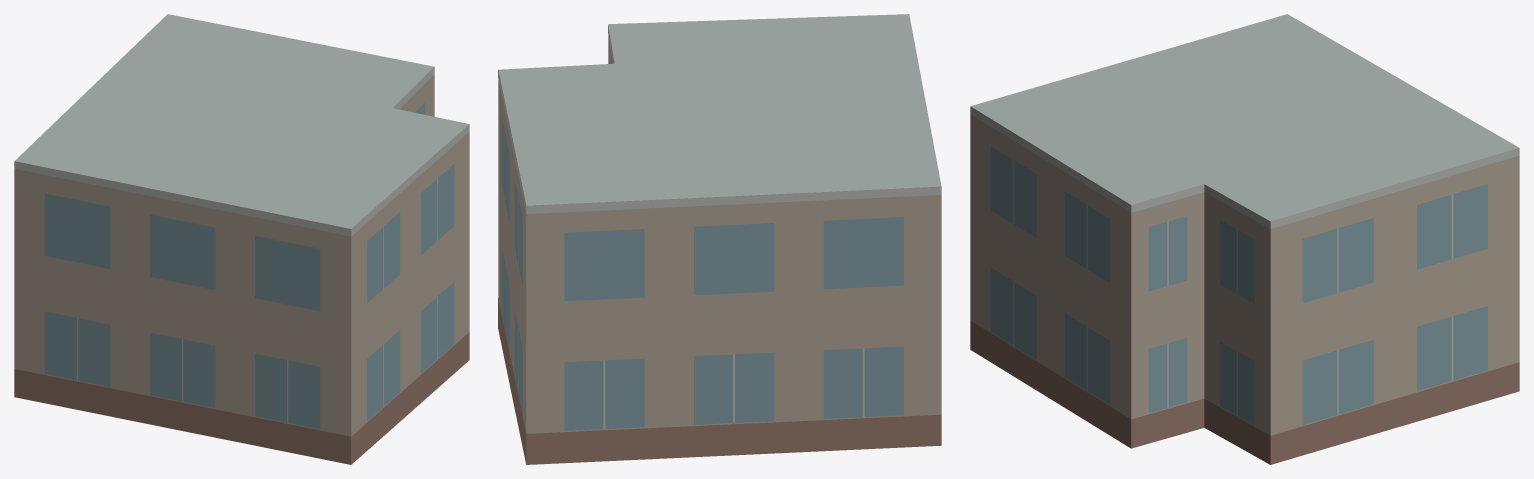
Rendered from survey-upis-32716719.glb.
The picture shows the model from 3 angles, left to right: view 1: azimuth 30°, elevation 25°; view 2: azimuth 150°, elevation 25°; view 3: azimuth 270°, elevation 25°; orthographic projection. The views are drawn at different scales.
Visible parts, largest first — view 1: survey-upis-32716719.tmp; view 2: survey-upis-32716719.tmp; view 3: survey-upis-32716719.tmp.
Part boxes in pixels (x1,y1,x2,y2): survey-upis-32716719.tmp: (14,14,469,464); survey-upis-32716719.tmp: (498,14,941,464); survey-upis-32716719.tmp: (970,14,1519,464).
Bounding box in the file's own units: 13.89 × 7.6 × 15.55.
